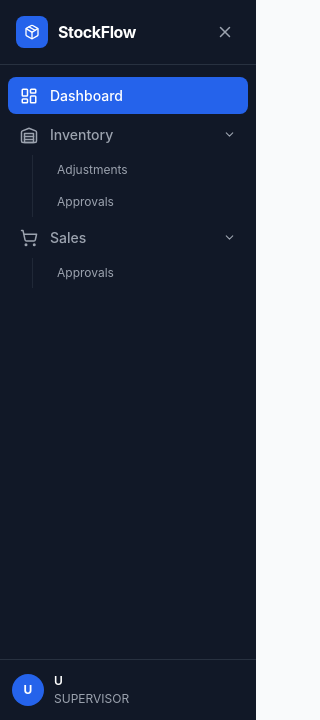
Test case: Sidebar — permission gating › gives a Supervisor the stock approval queue
The image size is (320, 720).
What coordinates should you click on to do the following:
click the button "Inventory"
I would click on:
 (128, 134)
Its box is x1=8 y1=116 x2=248 y2=153.
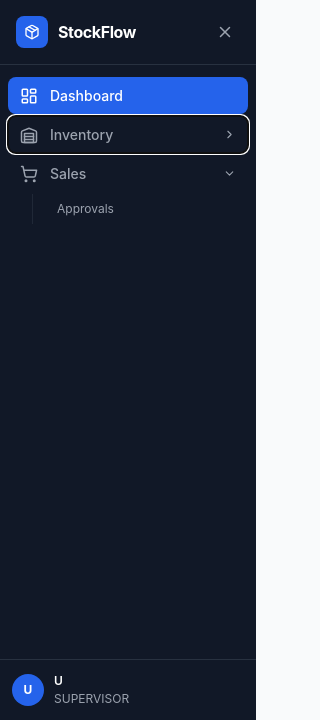
What coordinates should you click on to do the following:
click the button "Inventory"
I would click on:
 (128, 134)
Its box is x1=8 y1=116 x2=248 y2=153.
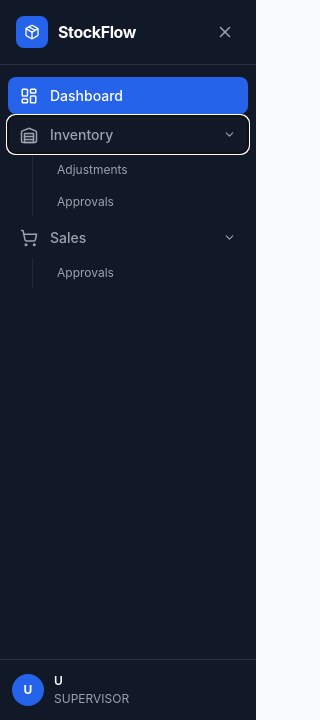
What coordinates should you click on to do the following:
click the button "Sales"
I would click on:
 (128, 238)
Its box is x1=8 y1=219 x2=248 y2=256.
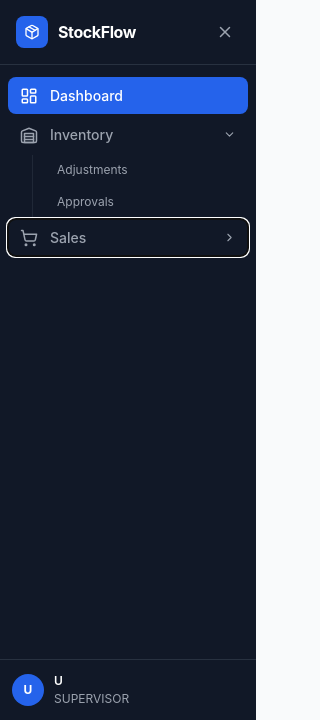
What coordinates should you click on to do the following:
click the button "Sales"
I would click on:
 (128, 238)
Its box is x1=8 y1=219 x2=248 y2=256.
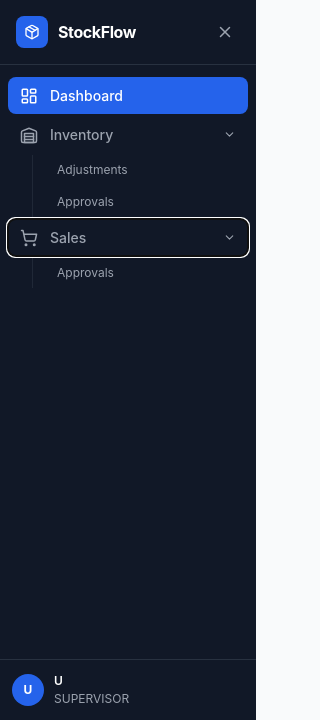
Expected: the number of links "Approvals" is 2, x1=57 y1=194 x2=114 y2=209; x1=57 y1=265 x2=114 y2=280
